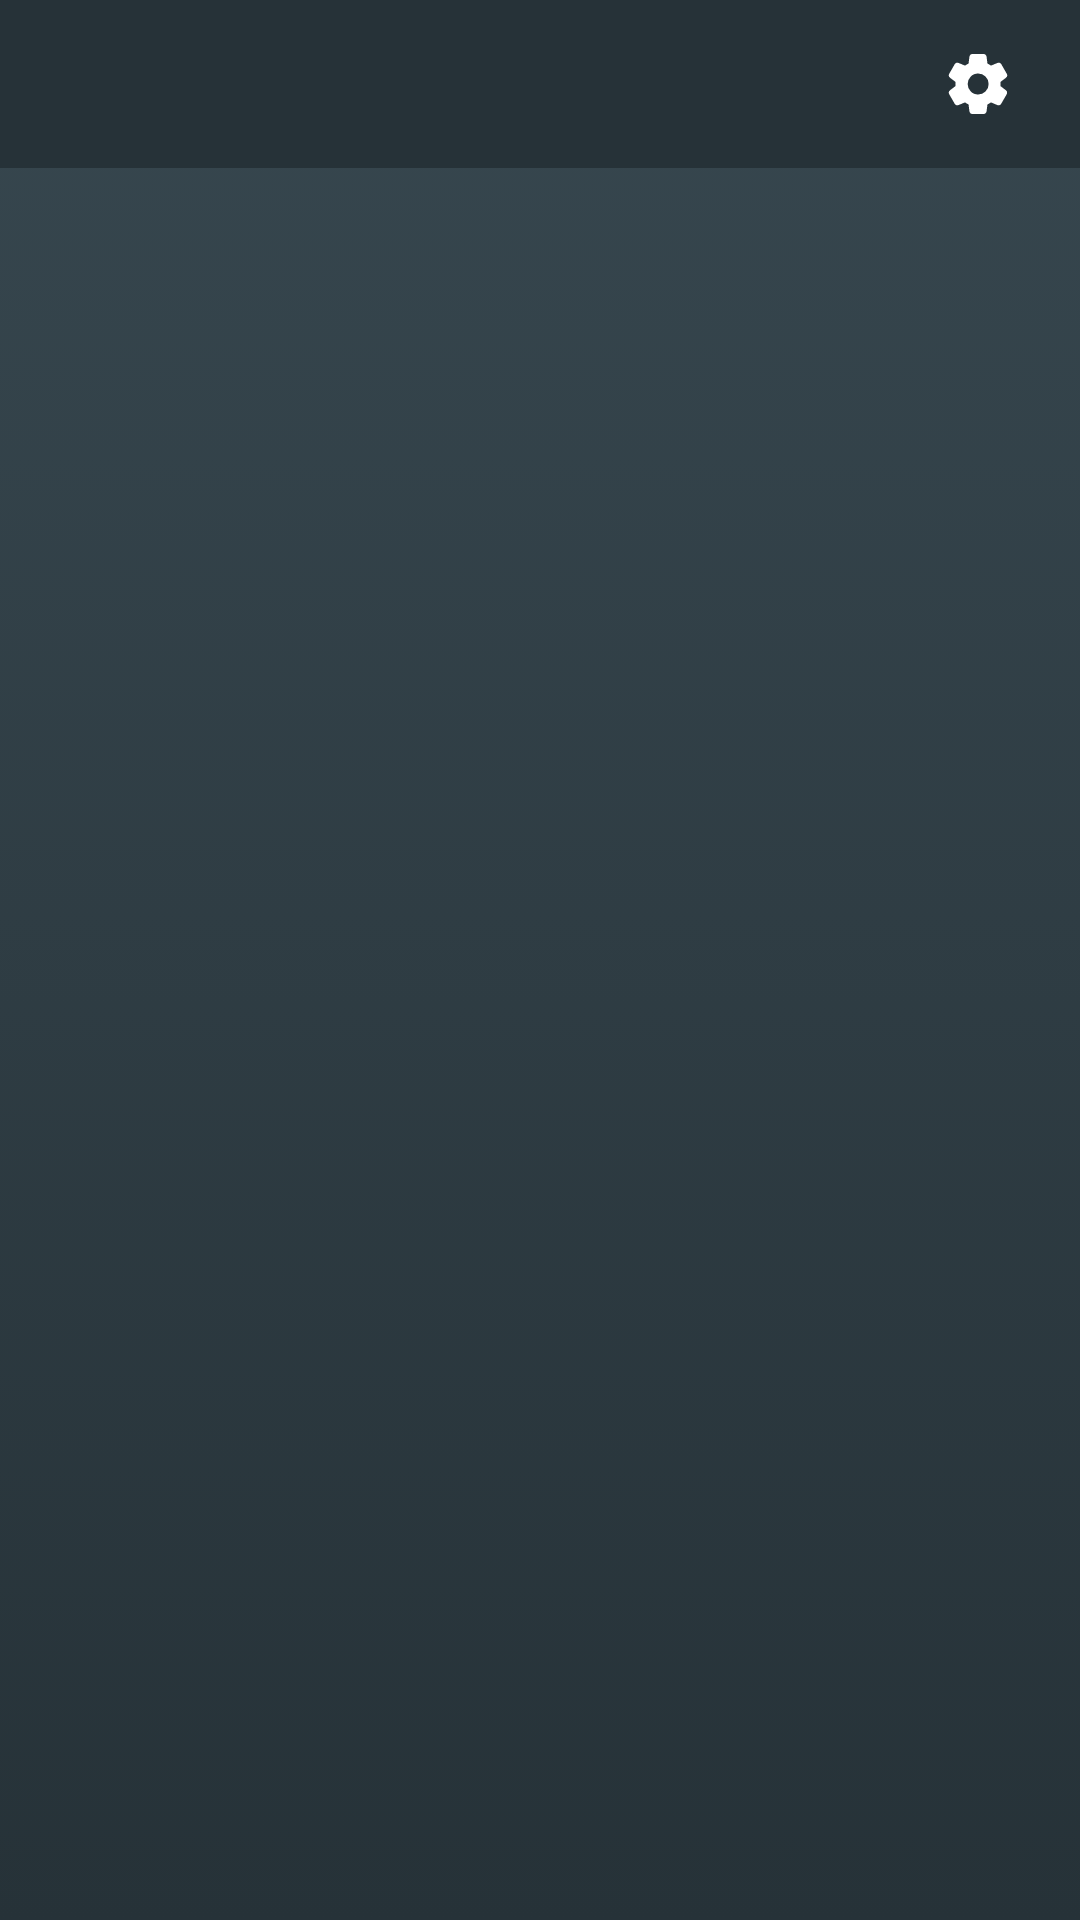

Locate icon controls on the screen. Image size 1080x1920, boxes as bbox(x1, y1, x2, y2).
settings: bbox(948, 54, 1008, 114)
